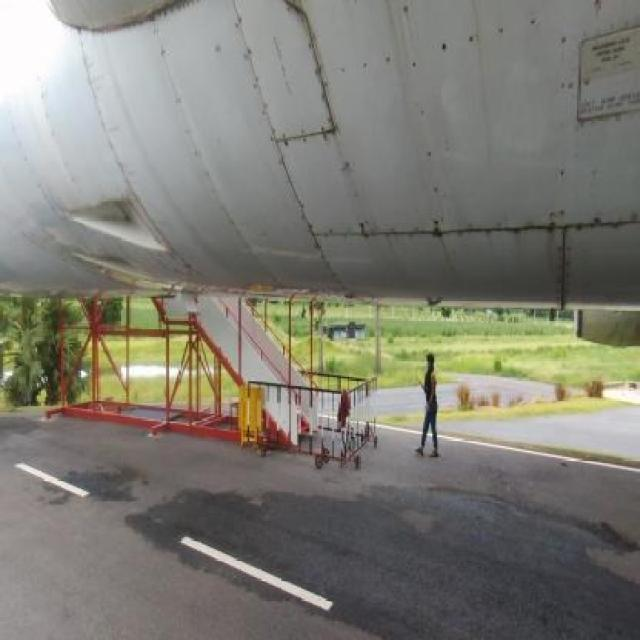Missing-Rivet: (246, 38, 303, 212), (405, 54, 449, 214), (326, 49, 463, 86), (463, 9, 568, 48), (559, 29, 576, 217)
Rust: (360, 219, 562, 298), (386, 2, 445, 147), (289, 1, 340, 139), (333, 137, 378, 238)
